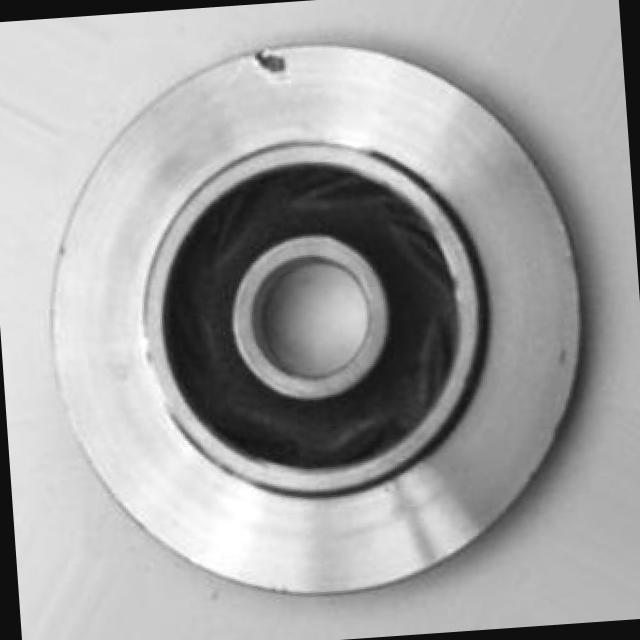Defect: (251, 45, 298, 81)
